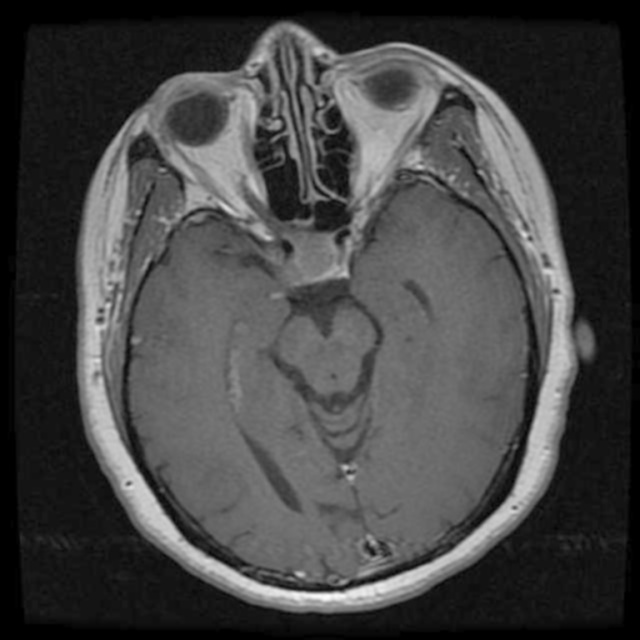no tumor: (285, 232, 354, 286)
